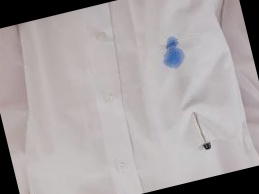ink: (159, 34, 186, 71)
